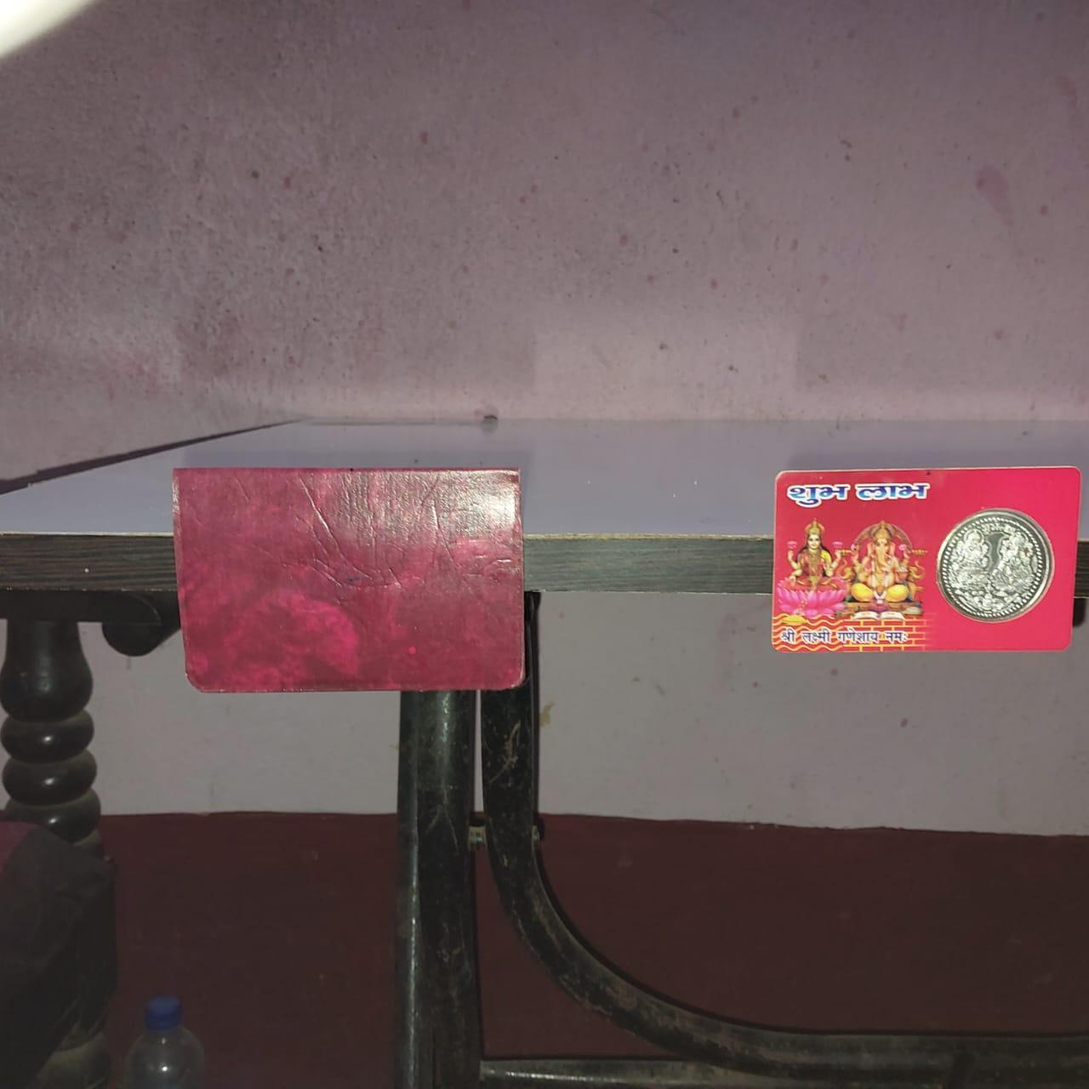blessing_card: (774, 461, 1083, 656)
wallet: (177, 463, 527, 694)
